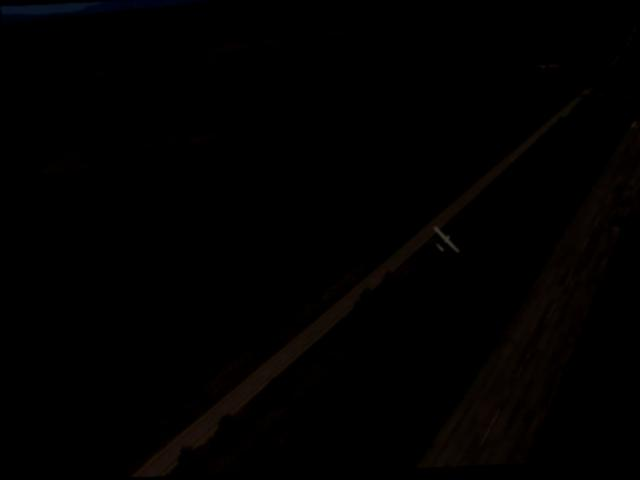uav: (419, 224, 458, 260)
